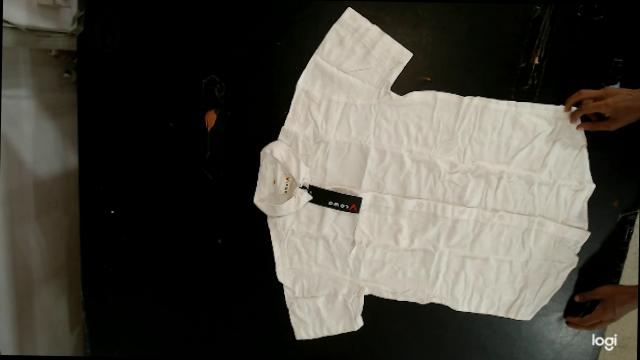new-garment: (254, 7, 595, 339)
